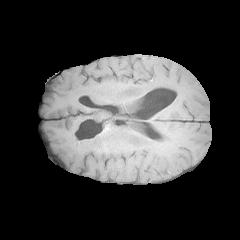glioma: (71, 107, 112, 153)
